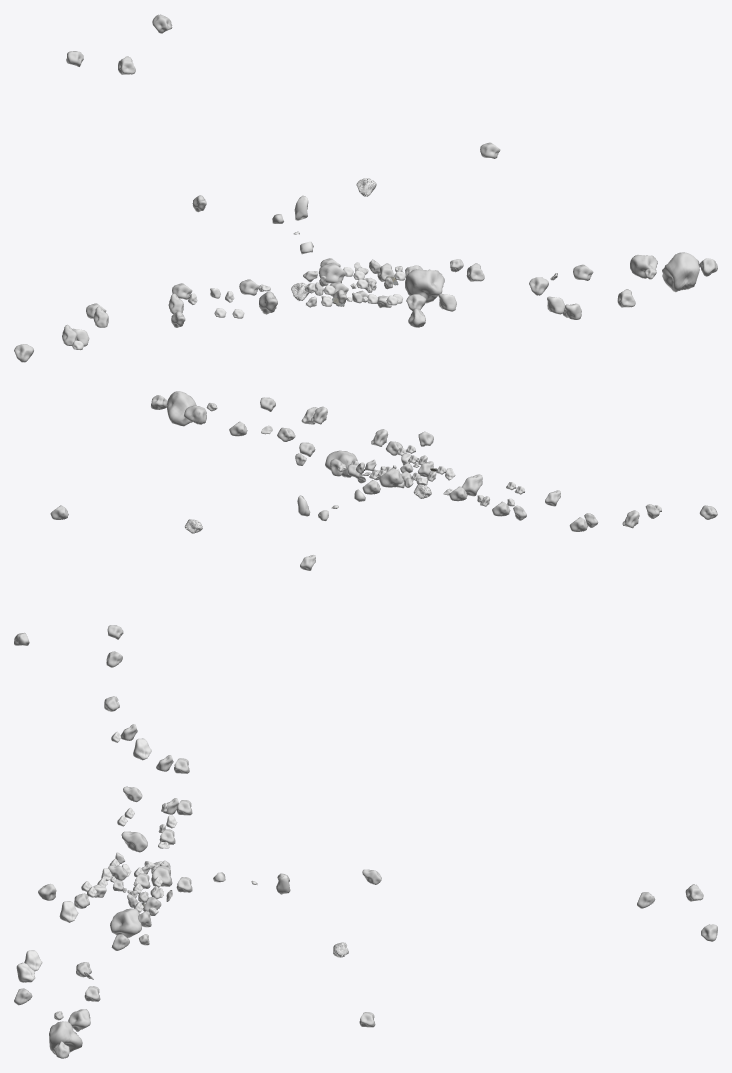
File: Rocks2.fbx
3 views of the same model, one above another, from view 1: azimuth 30°, elevation 25°; view 2: azimuth 150°, elevation 25°; view 3: azimuth 270°, elevation 25° (orthographic). The views are drawn at different scales.
Visible parts, largest first — view 1: stone_black.002; view 2: stone_black.002; view 3: stone_black.002.
Part boxes in pixels (bbox=[...]): stone_black.002: bbox=[14, 14, 717, 362]; stone_black.002: bbox=[14, 391, 717, 667]; stone_black.002: bbox=[14, 696, 717, 1058].
Size of the model in its own units: 25623 by 2862 by 25085.
Materials: 6 (1 with a texture image).
